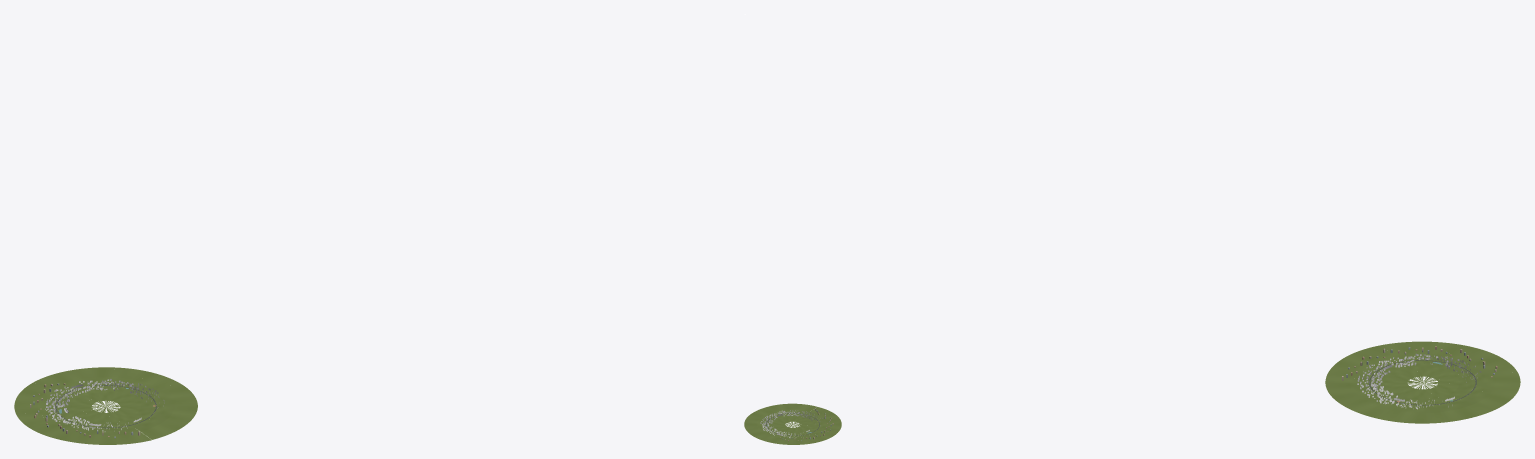
Rendered from playground.glb.
The picture shows the model from 3 angles, left to right: view 1: azimuth 30°, elevation 25°; view 2: azimuth 150°, elevation 25°; view 3: azimuth 270°, elevation 25°; orthographic projection. The views are drawn at different scales.
Parts seen in each view (by area): view 1: ParkLawn_035, ParkLawn_013, ParkLawn_034, ParkLawn_036, ParkLawn_018, ParkLawn_014, ParkLawn_041, ParkLawn_019, ParkLawn_017, ParkLawn_039, ParkLawn_040, ParkLawn_015 (+8 smaller); view 2: ParkLawn_042, ParkLawn_020, ParkLawn_041, ParkLawn_043, ParkLawn_021, ParkLawn_019, ParkLawn_036, ParkLawn_016, ParkLawn_037, ParkLawn_035, ParkLawn_013, ParkLawn_038 (+11 smaller); view 3: ParkLawn_038, ParkLawn_016, ParkLawn_039, ParkLawn_017, ParkLawn_015, ParkLawn_043, ParkLawn_037, ParkLawn_021, ParkLawn_034, ParkLawn_018, ParkLawn_040, ParkLawn_036 (+8 smaller).
Part boxes in pixels (left/top/right/bottom): ParkLawn_035: left=108, top=391, right=197, bottom=411; ParkLawn_013: left=108, top=390, right=197, bottom=410; ParkLawn_034: left=107, top=407, right=195, bottom=431; ParkLawn_036: left=108, top=374, right=189, bottom=405; ParkLawn_018: left=14, top=390, right=104, bottom=411; ParkLawn_014: left=107, top=373, right=188, bottom=406; ParkLawn_041: left=15, top=407, right=104, bottom=430; ParkLawn_019: left=15, top=407, right=103, bottom=431; ParkLawn_017: left=23, top=374, right=102, bottom=405; ParkLawn_039: left=24, top=373, right=104, bottom=406; ParkLawn_040: left=14, top=390, right=103, bottom=410; ParkLawn_015: left=106, top=367, right=153, bottom=406; ParkLawn_042: left=795, top=420, right=841, bottom=431; ParkLawn_020: left=796, top=419, right=841, bottom=430; ParkLawn_041: left=794, top=425, right=837, bottom=440; ParkLawn_043: left=795, top=410, right=839, bottom=424; ParkLawn_021: left=794, top=410, right=839, bottom=424; ParkLawn_019: left=796, top=425, right=838, bottom=440; ParkLawn_036: left=744, top=412, right=790, bottom=424; ParkLawn_016: left=751, top=425, right=791, bottom=442; ParkLawn_037: left=744, top=423, right=789, bottom=433; ParkLawn_035: left=754, top=405, right=791, bottom=423; ParkLawn_013: left=753, top=405, right=790, bottom=423; ParkLawn_038: left=751, top=425, right=791, bottom=442; ParkLawn_038: left=1425, top=381, right=1520, bottom=402; ParkLawn_016: left=1425, top=380, right=1520, bottom=401; ParkLawn_039: left=1425, top=359, right=1520, bottom=382; ParkLawn_017: left=1425, top=358, right=1519, bottom=382; ParkLawn_015: left=1423, top=383, right=1506, bottom=418; ParkLawn_043: left=1329, top=352, right=1421, bottom=382; ParkLawn_037: left=1425, top=383, right=1505, bottom=418; ParkLawn_021: left=1329, top=352, right=1419, bottom=382; ParkLawn_034: left=1331, top=383, right=1420, bottom=413; ParkLawn_018: left=1423, top=344, right=1500, bottom=382; ParkLawn_040: left=1425, top=345, right=1502, bottom=381; ParkLawn_036: left=1413, top=383, right=1464, bottom=423.
Bounding box in the file's own units: 4168 × 4618 × 5137.
